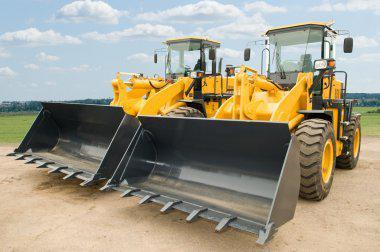wheel loader: (100, 18, 364, 247), (5, 34, 244, 201)
